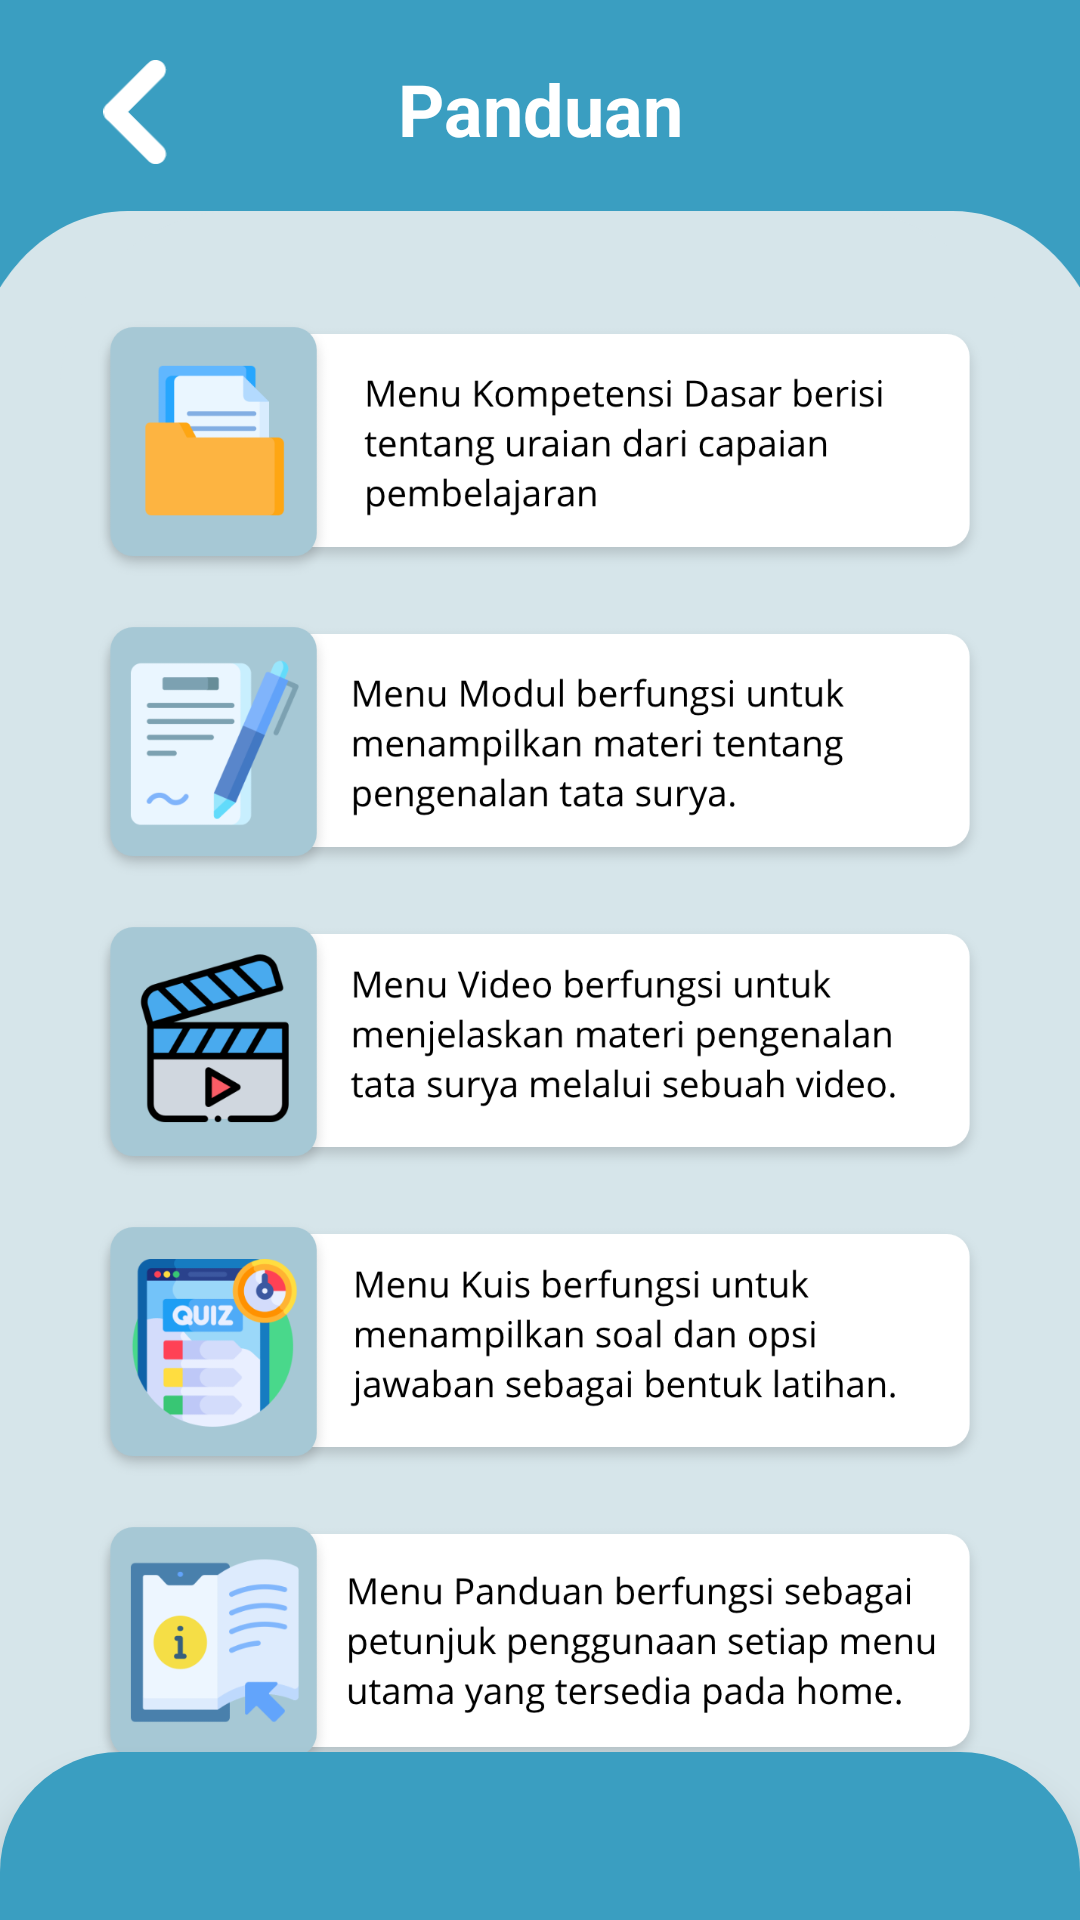

Locate icon controls on the screen. Image size 1080×1920, boxes as box(x1, y1, x2, y2).
back: box(103, 60, 167, 164)
